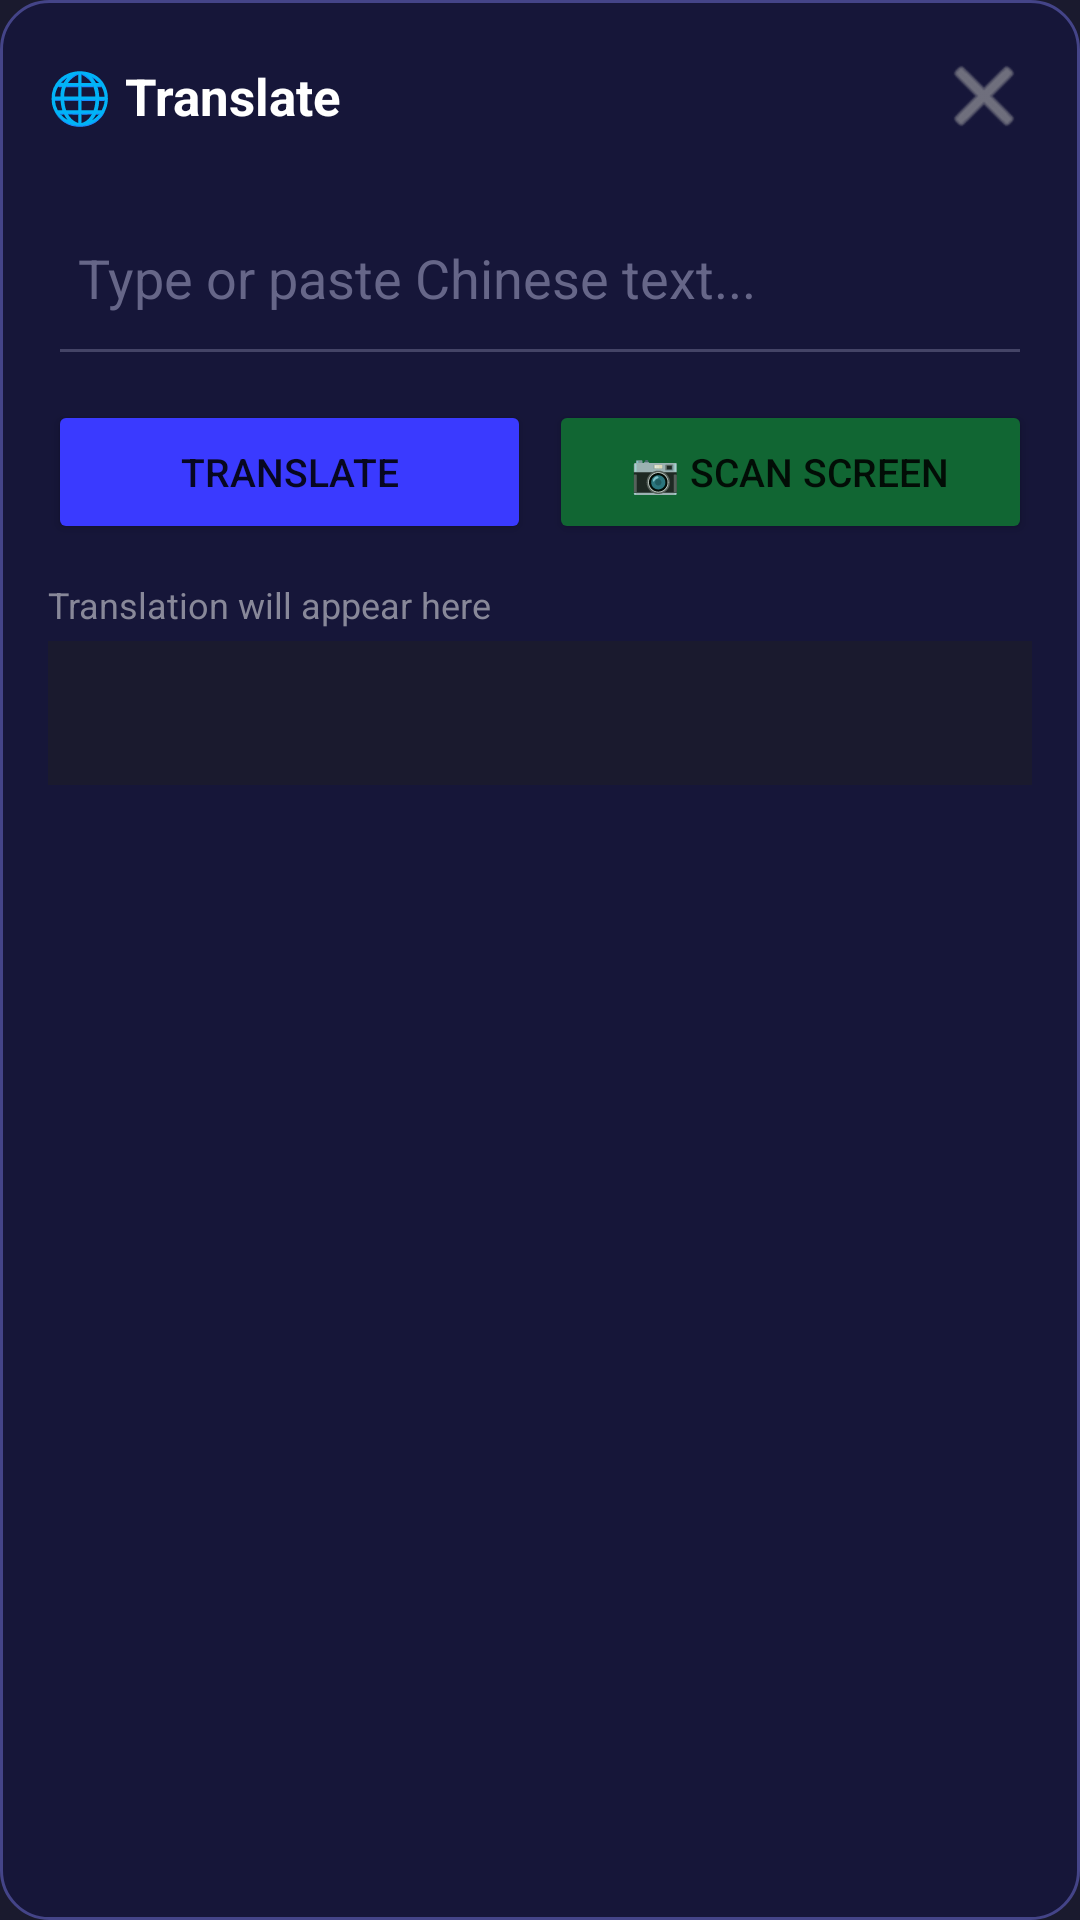

Named icons in this screenshot (1080w x 1920h) and their bounding boxes, bbox(x1, y1, x2, y2):
close clear cancel: bbox(954, 66, 1014, 126)
